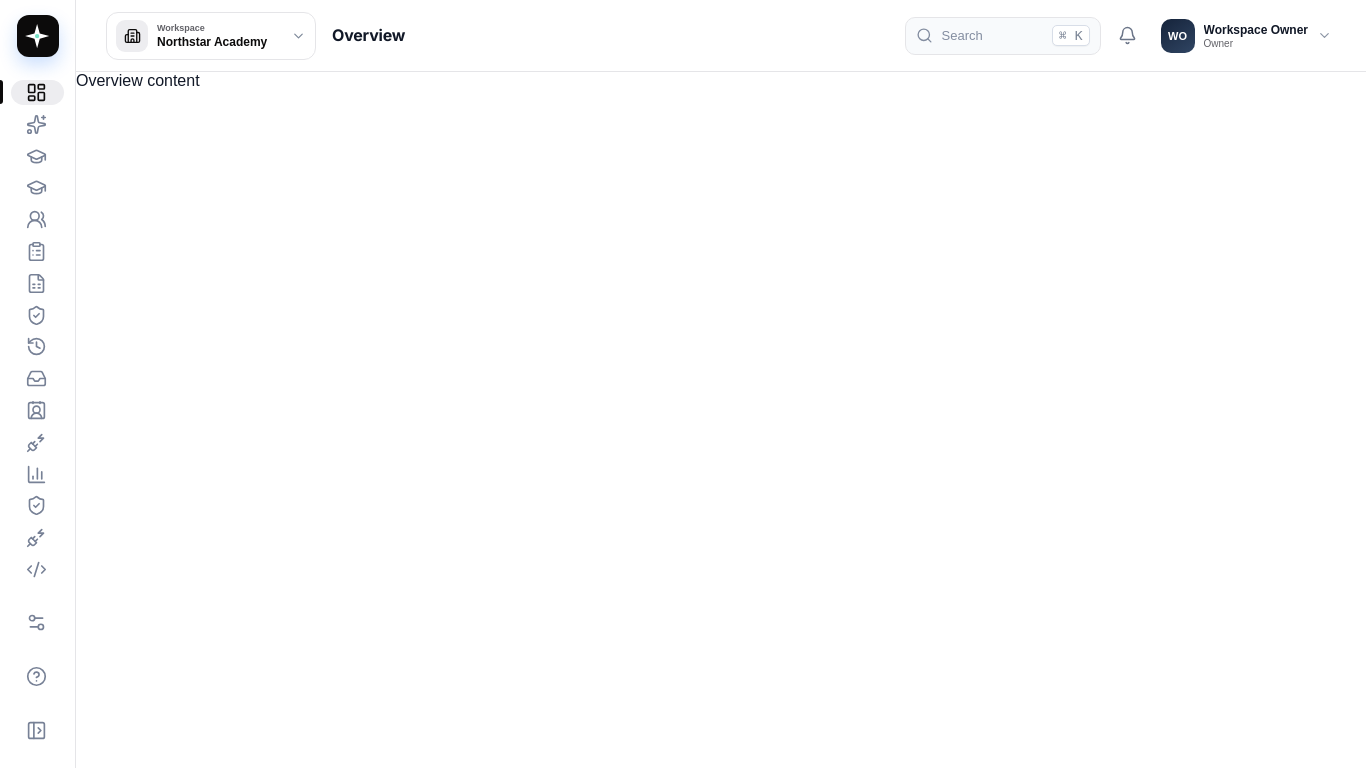
Test: AppShell command palette integration › opens the palette from the existing Search button
The width and height of the screenshot is (1366, 768).
Click the button "Search ⌘ K": (1002, 36) [904,16,1100,54]
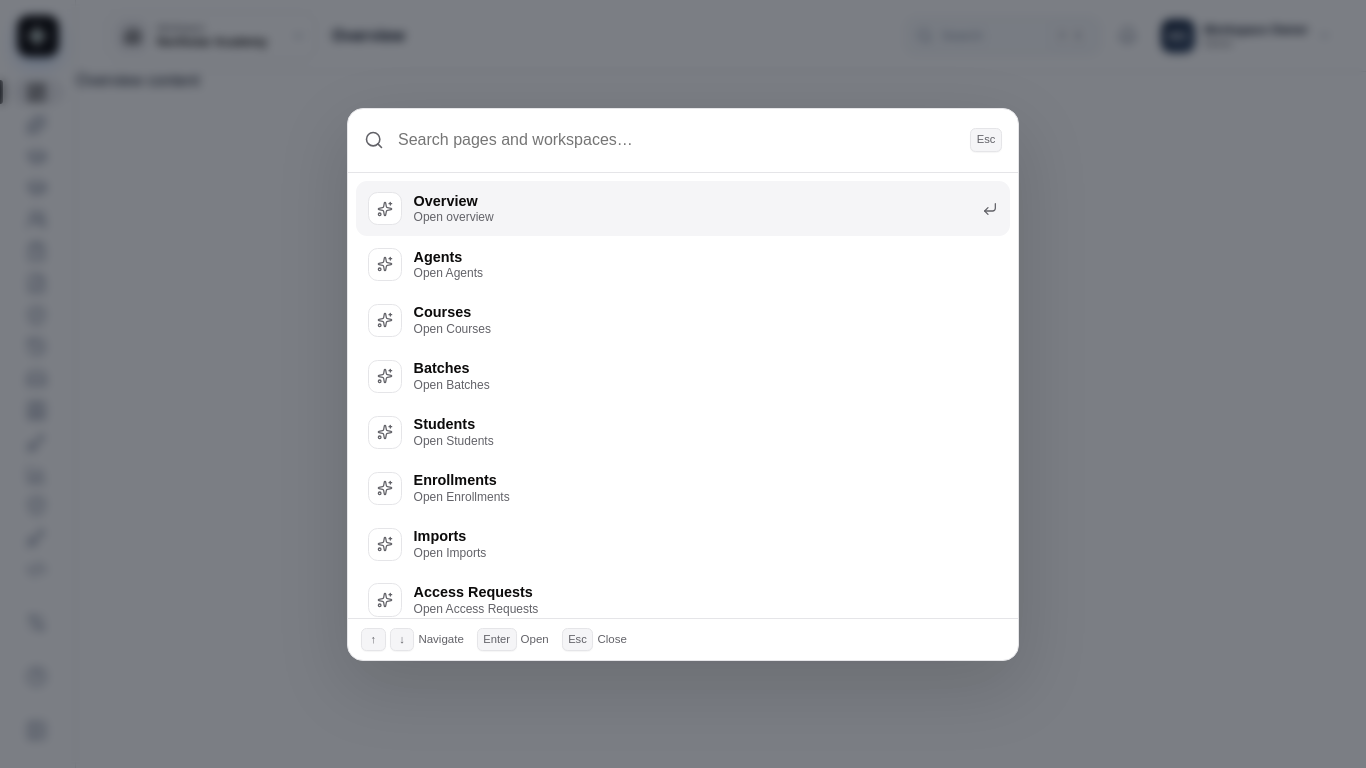
Expected: the dialog named "Search and commands" is shown, [347,108,1019,661]
